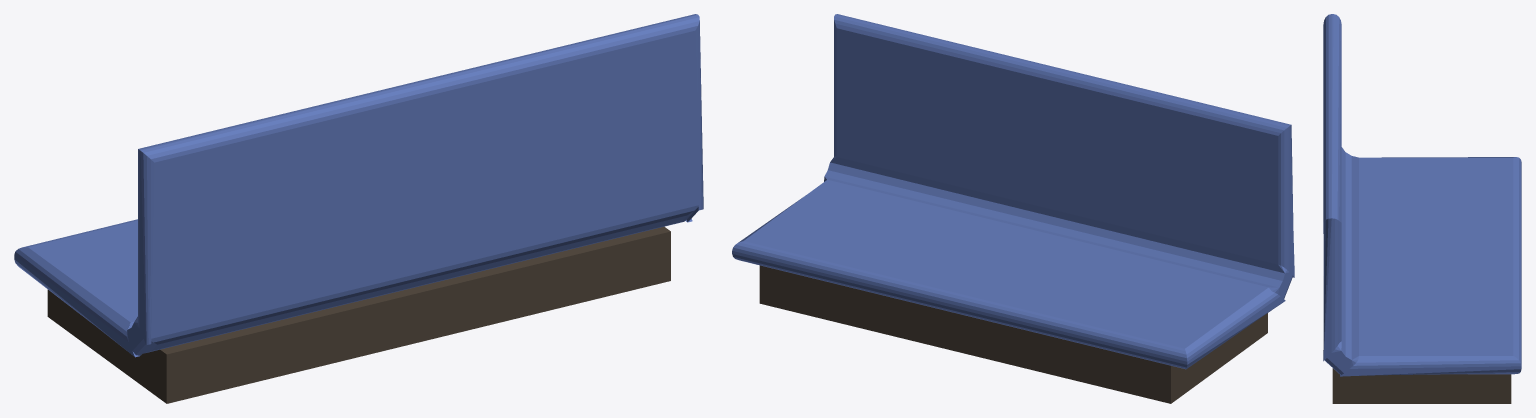
File: Bed.glb
3 views of the same model, side by side, from view 1: azimuth 30°, elevation 25°; view 2: azimuth 150°, elevation 25°; view 3: azimuth 270°, elevation 25° (orthographic). The views are drawn at different scales.
Visible parts, largest first — view 1: Bed; view 2: Bed; view 3: Bed.
Boxes of the visible parts, x1,y1,x2,y2 form: Bed: [14, 14, 703, 403]; Bed: [732, 14, 1294, 403]; Bed: [1323, 14, 1521, 403].
Size of the model in its own units: 1.77 by 0.7989 by 0.7248.
